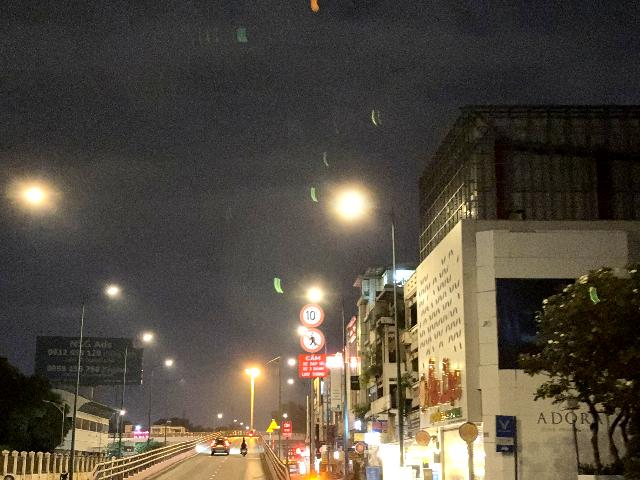cam-nguoi-di-bo: (301, 328, 325, 353)
han-che-trong-luong-xe: (299, 303, 325, 328)
